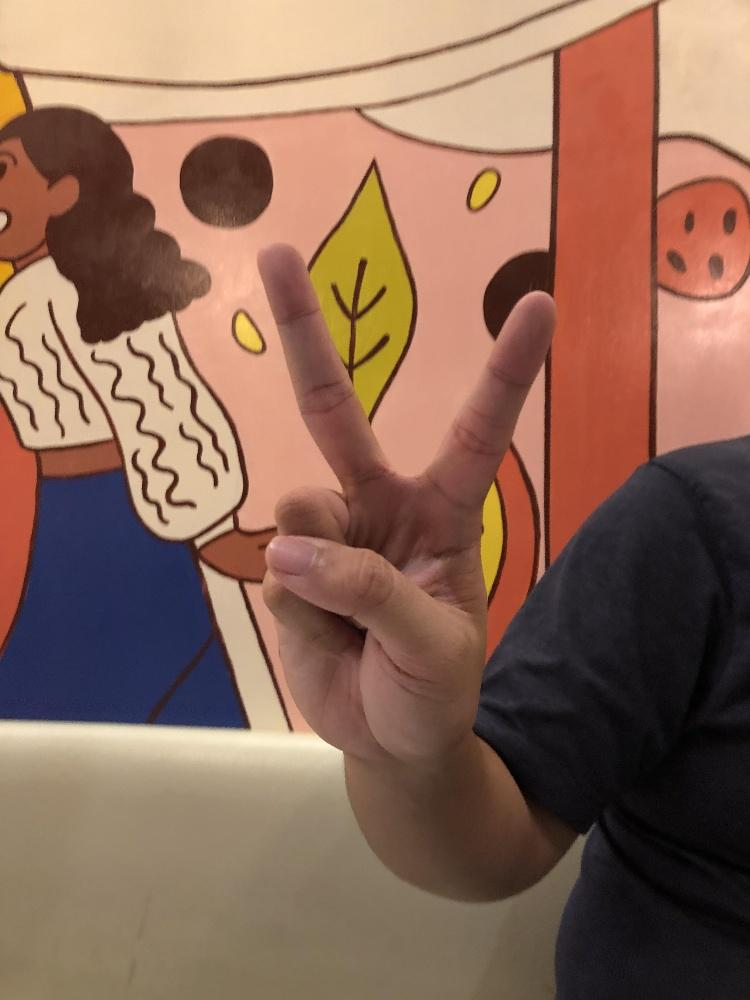v: (253, 237, 558, 765)
